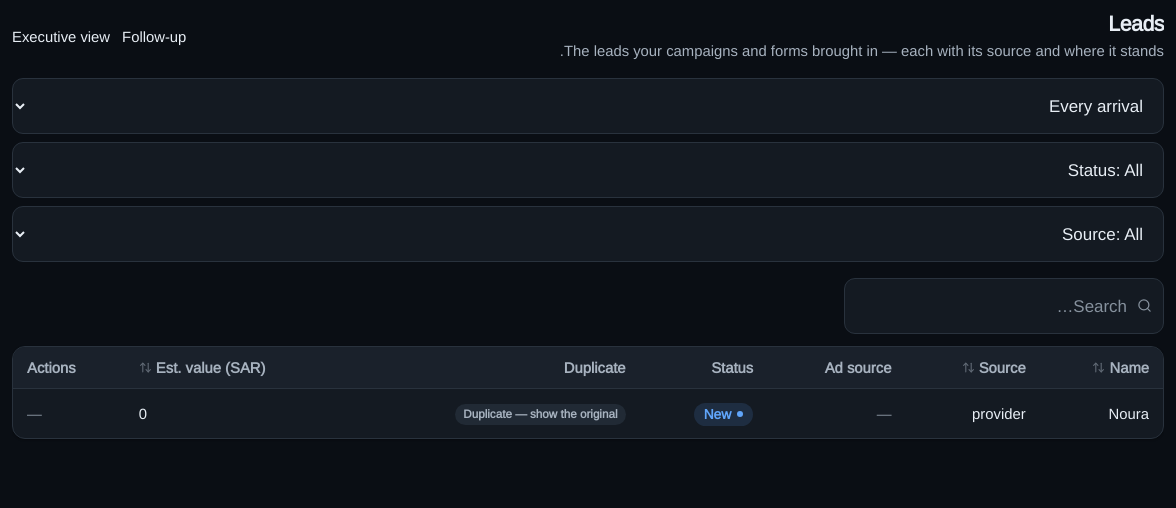
Test case: reaching the lead a duplicate duplicates › says the original is elsewhere rather than scrolling to nothing
The width and height of the screenshot is (1176, 508).
Step 1. Click the button with test id "lead-duplicate-dup" → x=540, y=415, box [455,404,626,425]
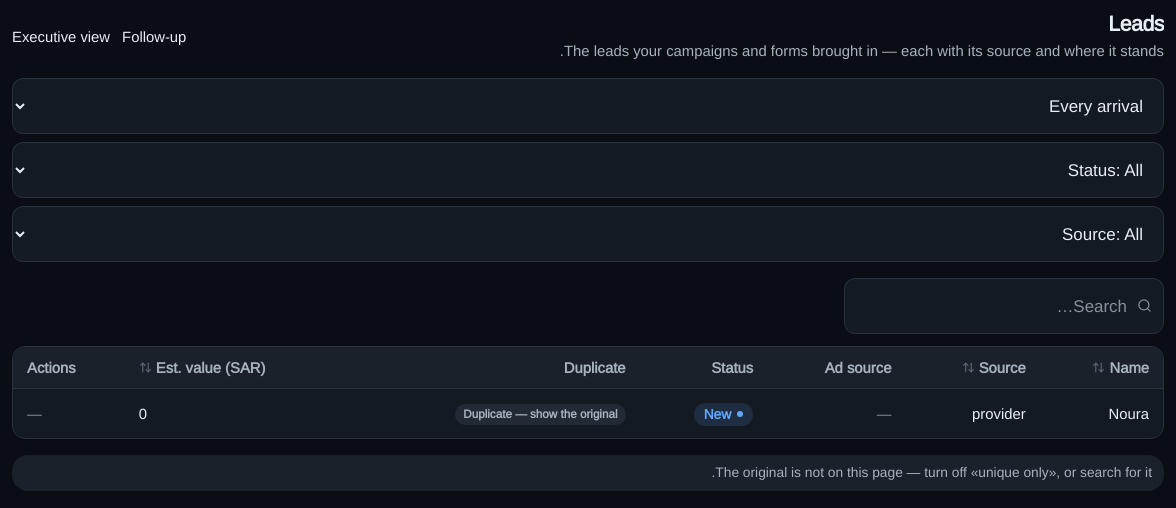
expect the text with test id "canonical-not-in-view" shows "not on this page": met, box [712,464,1152,480]
